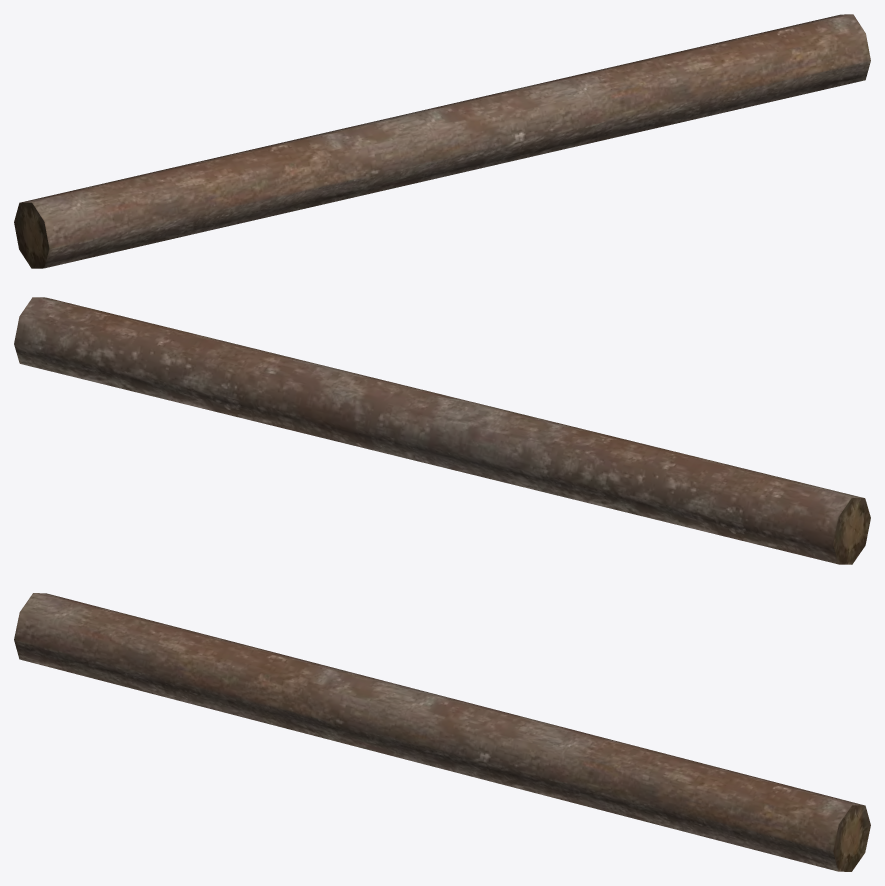
3 renders of one model, top to bottom at view 1: azimuth 30°, elevation 25°; view 2: azimuth 150°, elevation 25°; view 3: azimuth 330°, elevation 25°, orthographic.
Parts seen in each view (by area): view 1: SW_BS_lo; view 2: SW_BS_lo; view 3: SW_BS_lo.
Boxes of the visible parts, x1=… form: SW_BS_lo: x1=14, y1=14, x2=870, y2=268; SW_BS_lo: x1=14, y1=297, x2=870, y2=564; SW_BS_lo: x1=14, y1=593, x2=870, y2=871.
Bounding box in the file's own units: 1.29 × 0.1086 × 0.1183.
1 material, 1 textured.
